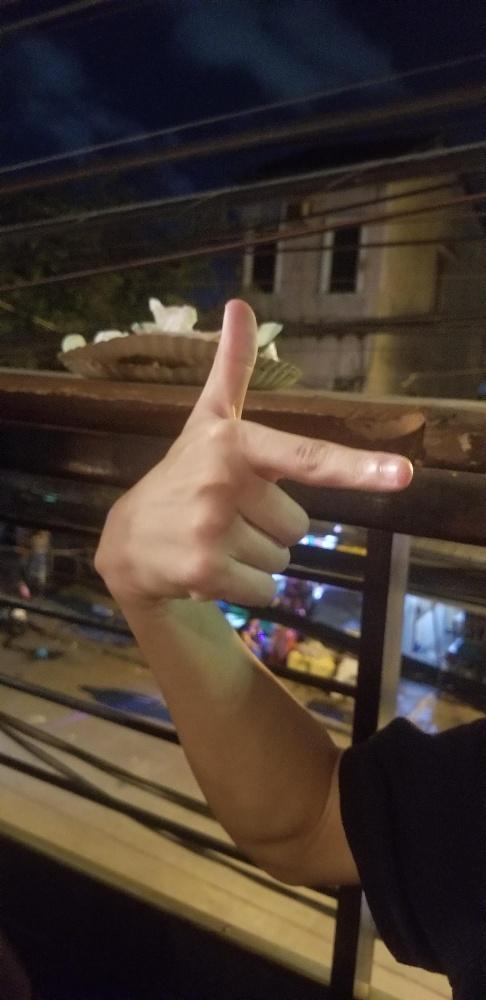g: (91, 296, 415, 609)
